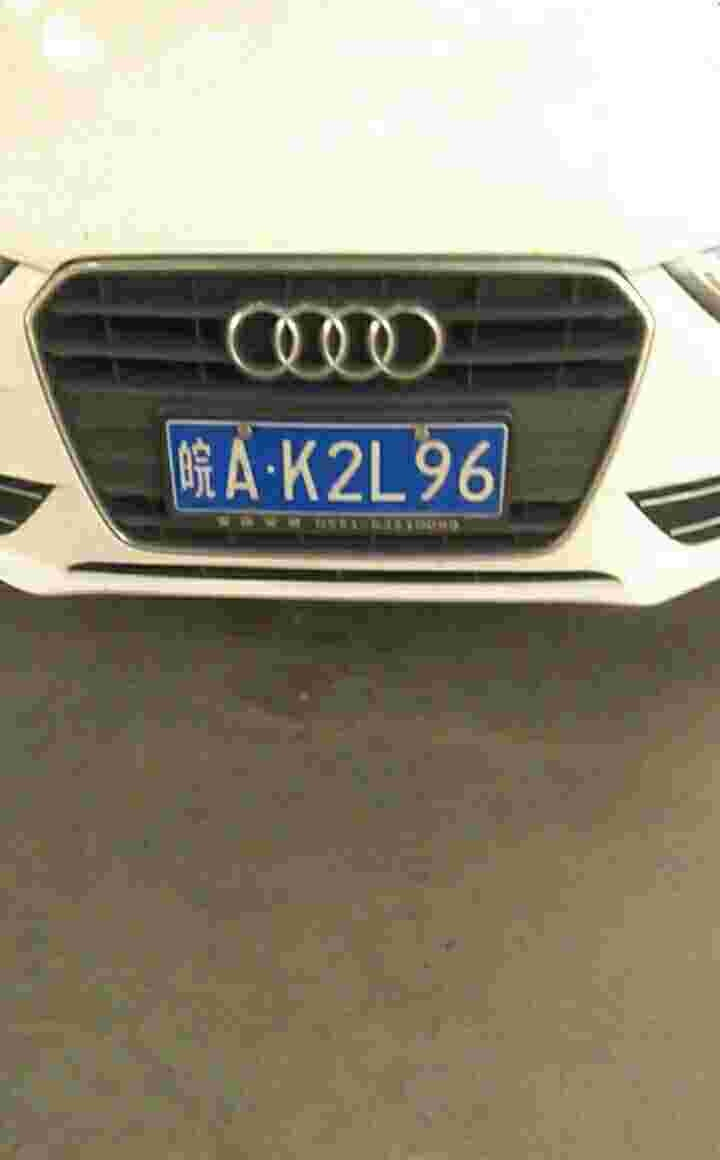license_plate: (166, 422, 509, 523)
